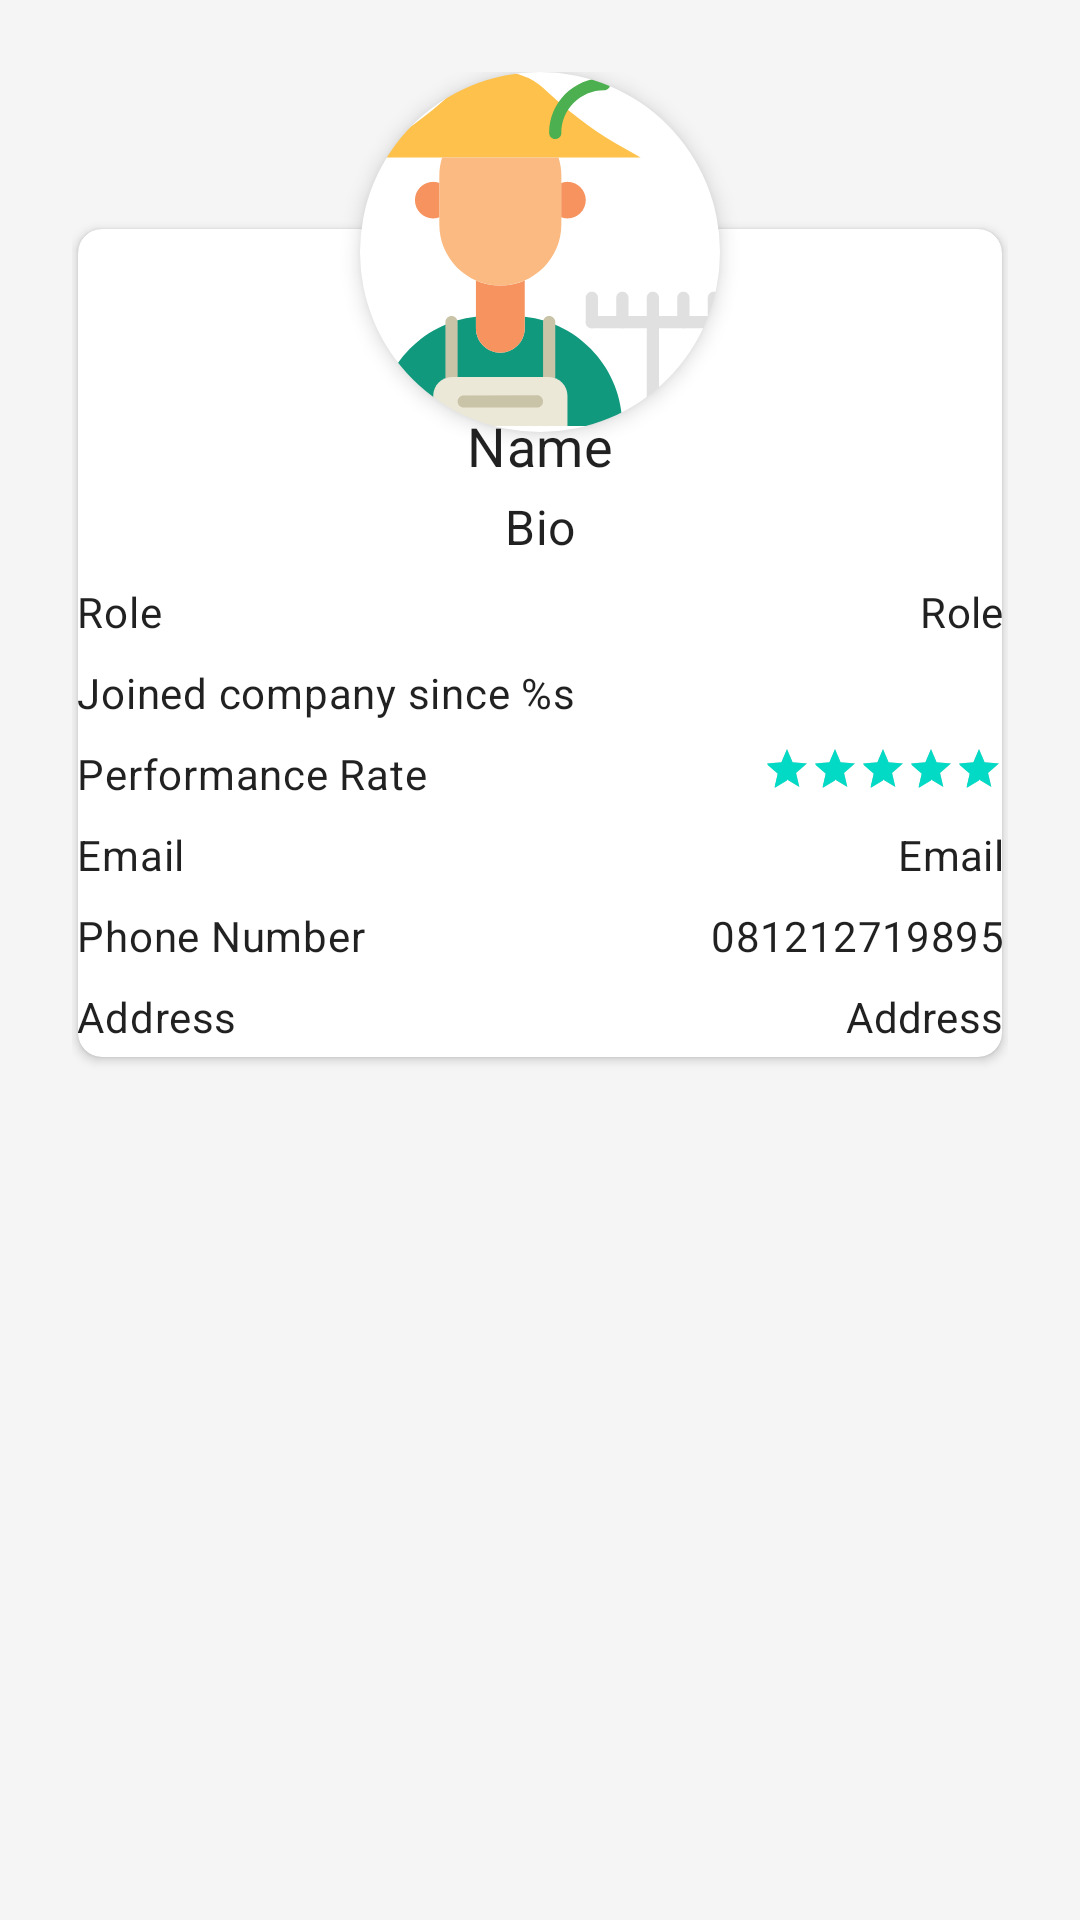

Locate icon controls on the screen. Image size 1080x1920, boxes as (x1, y1, x2, y2).
User Photo Profile: (386, 73, 640, 426)
